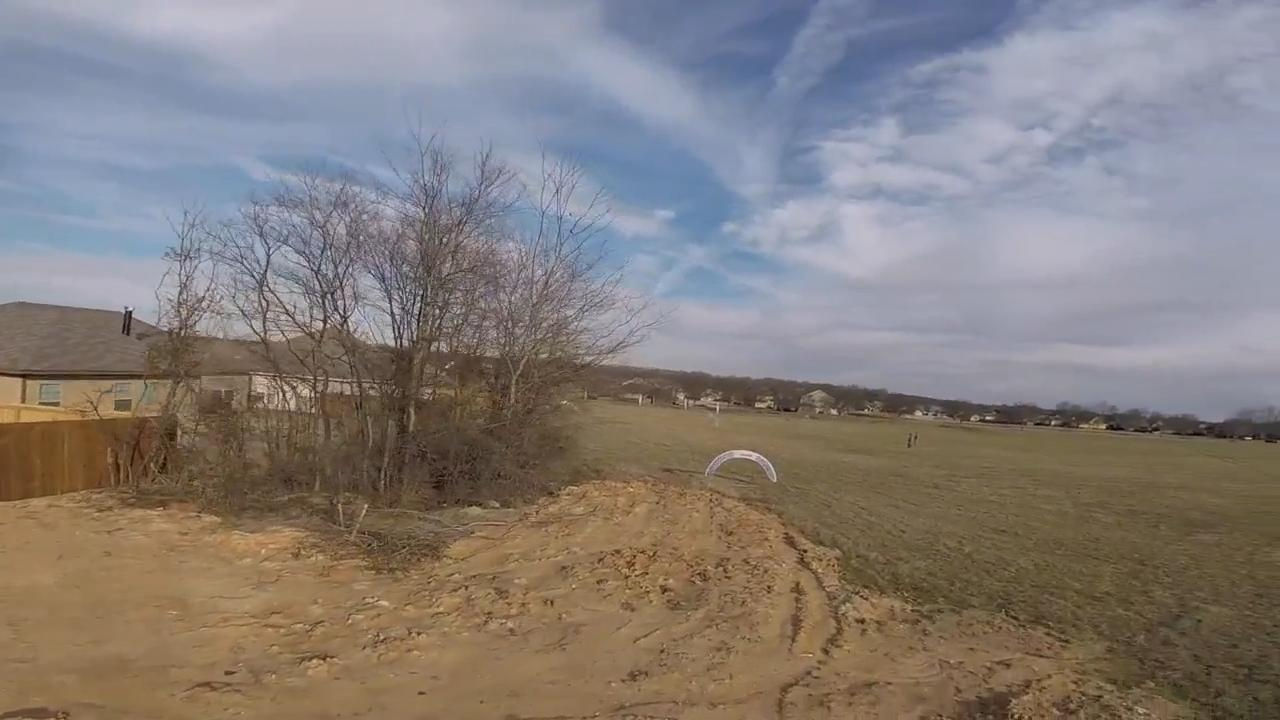gate: (706, 448, 781, 491)
